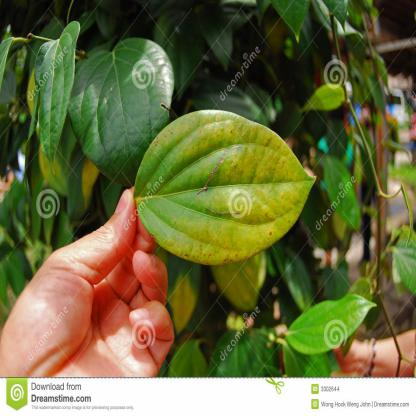Bell_pepper leaf: (131, 109, 319, 260)
